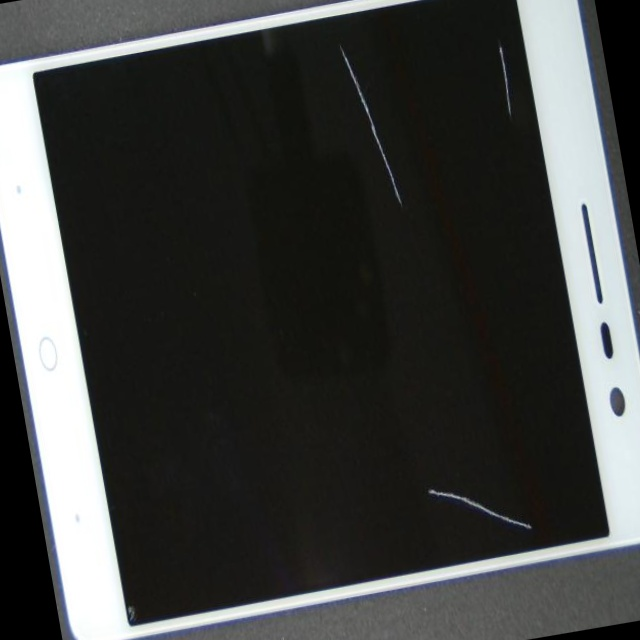scratch: (300, 216, 640, 640), (213, 127, 609, 279), (247, 0, 611, 157)
